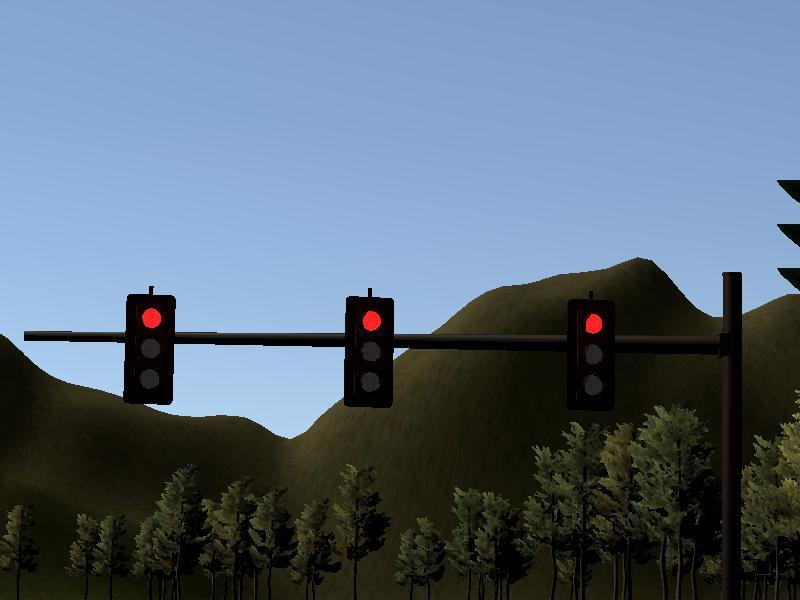Red: (568, 300, 617, 410), (344, 297, 393, 407), (125, 294, 174, 404)
